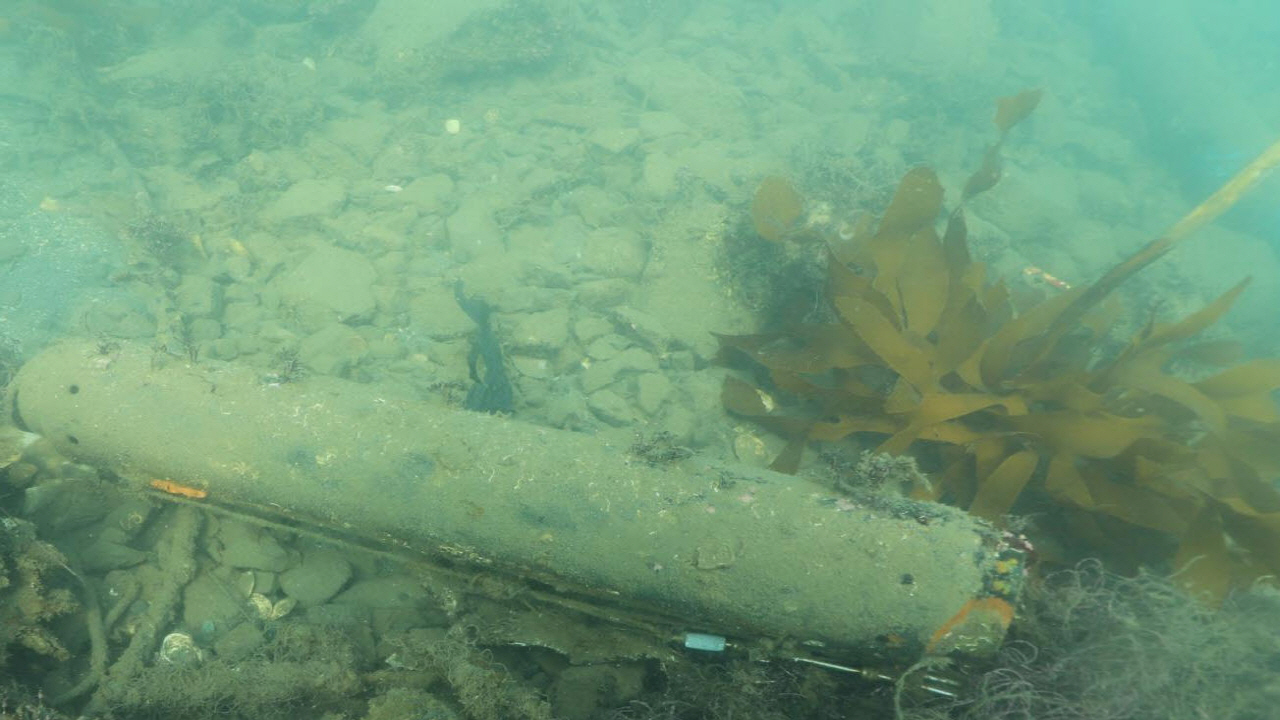eel fish trap: (1, 337, 1030, 658)
